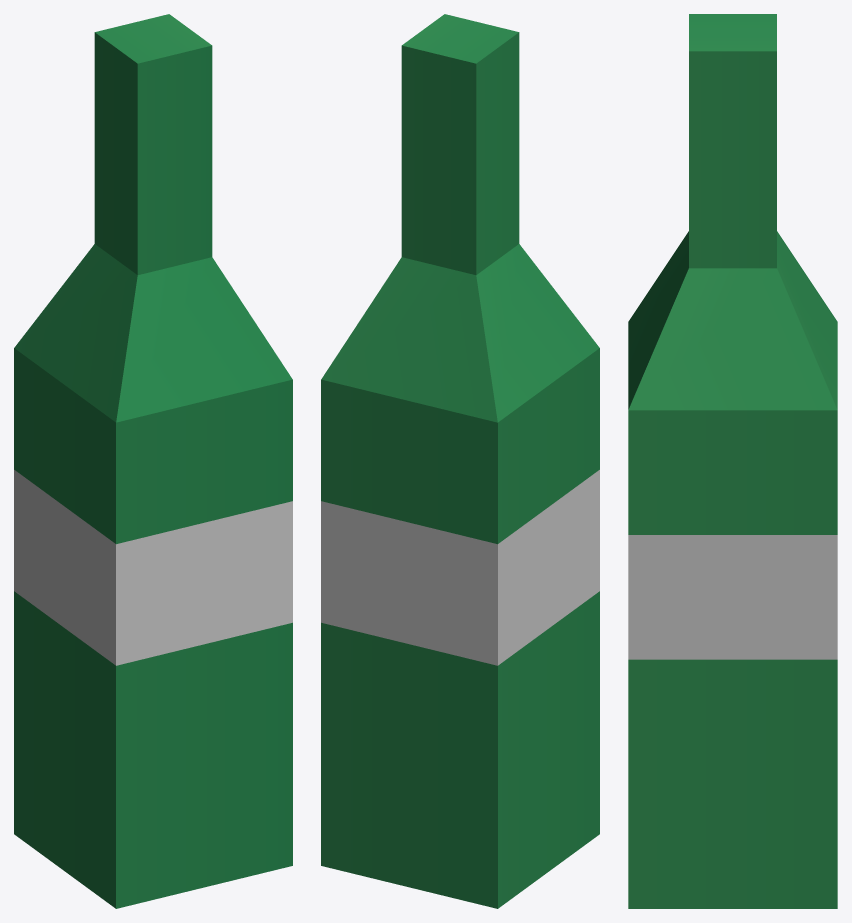
The model's file is B01_bouteille_1_a.fbx.
3 views of the same model, side by side, from view 1: azimuth 30°, elevation 25°; view 2: azimuth 150°, elevation 25°; view 3: azimuth 270°, elevation 25° (orthographic). The views are drawn at different scales.
Parts seen in each view (by area): view 1: B01_bouteille_1_a; view 2: B01_bouteille_1_a; view 3: B01_bouteille_1_a.
Part boxes in pixels (x1,y1,x2,y2): B01_bouteille_1_a: [14, 14, 292, 908]; B01_bouteille_1_a: [321, 14, 599, 908]; B01_bouteille_1_a: [628, 14, 837, 908].
Bounding box in the file's own units: 7.05 × 30.94 × 7.05.
